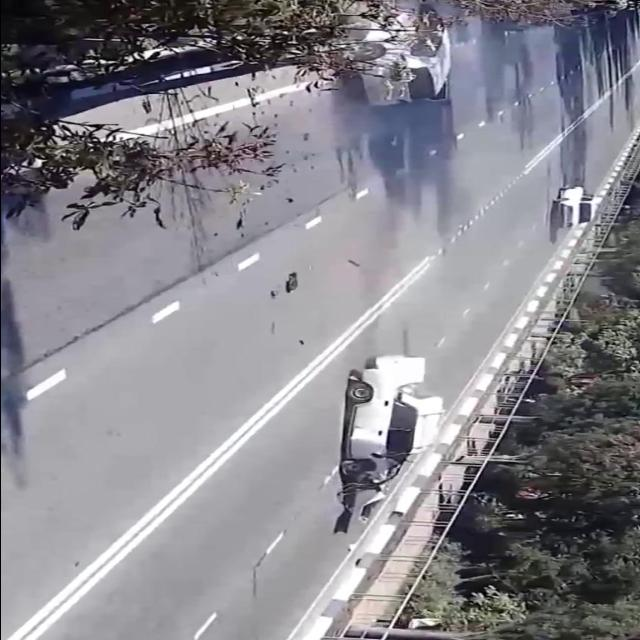accident: (323, 346, 466, 534), (301, 0, 467, 118)
